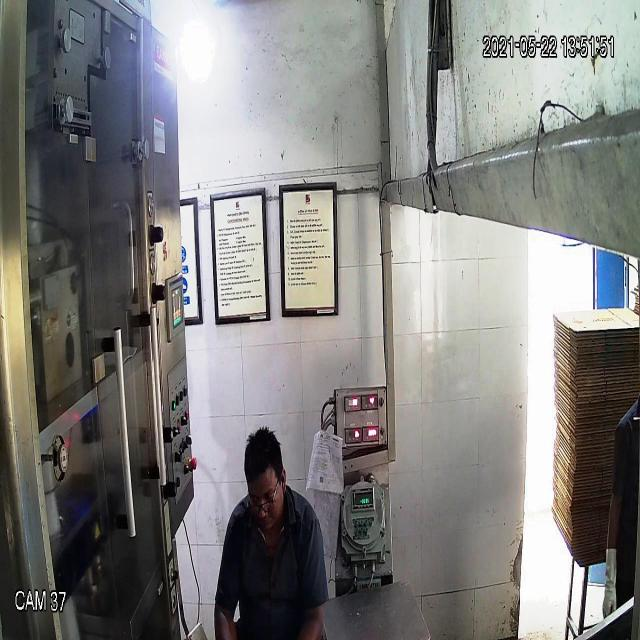glasses: (245, 479, 283, 522)
